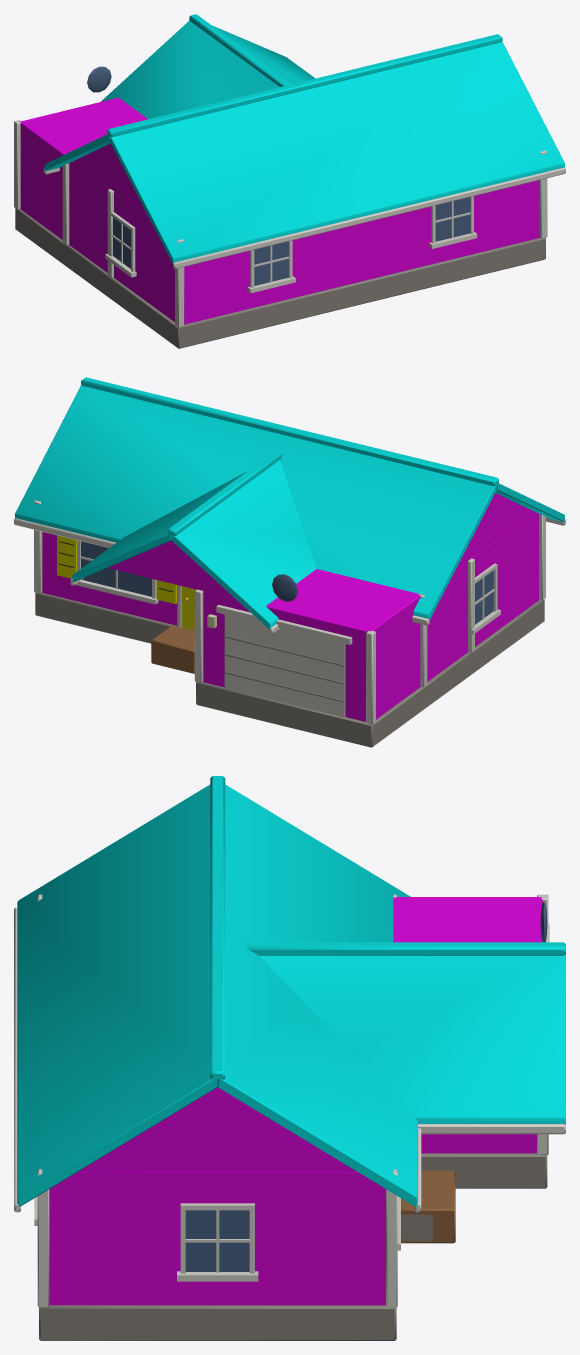
The model's file is House_Ranch.fbx.
The picture shows the model from 3 angles, top to bottom: view 1: azimuth 30°, elevation 25°; view 2: azimuth 150°, elevation 25°; view 3: azimuth 270°, elevation 25°; orthographic projection. The views are drawn at different scales.
Parts seen in each view (by area): view 1: House_Ranch; view 2: House_Ranch; view 3: House_Ranch.
Part boxes in pixels (x1=…): House_Ranch: x1=14, y1=14, x2=565, y2=348; House_Ranch: x1=14, y1=377, x2=565, y2=747; House_Ranch: x1=14, y1=776, x2=565, y2=1340.
Size of the model in its own units: 12.1 by 5.3 by 9.51.
